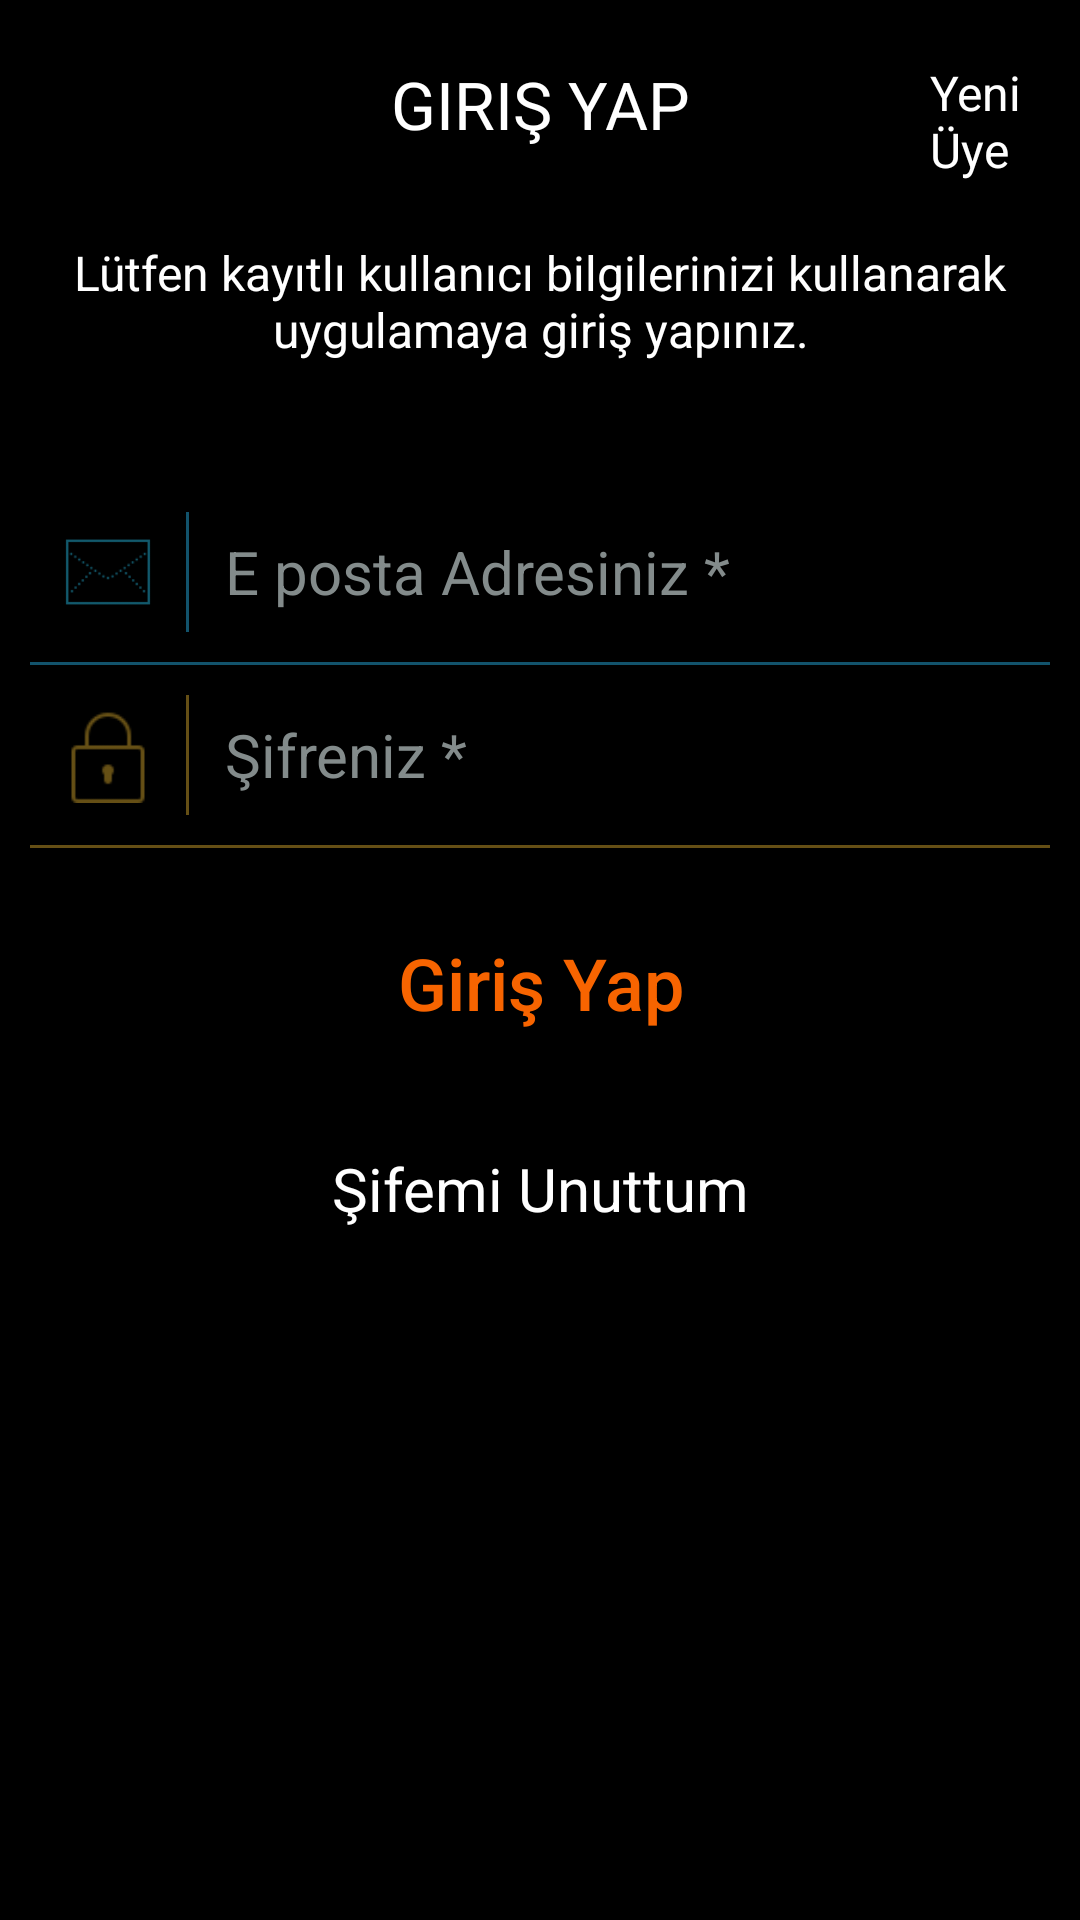

Icons on this 1080x1920 Android screen, each with its box as (x1, y1, x2, y2):
mail icom: (66, 539, 150, 605)
password: (71, 712, 145, 803)
